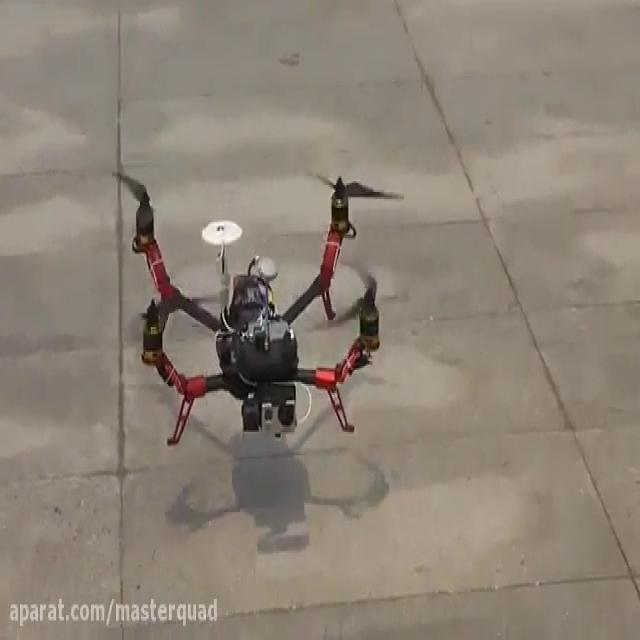drone: (108, 152, 404, 454)
